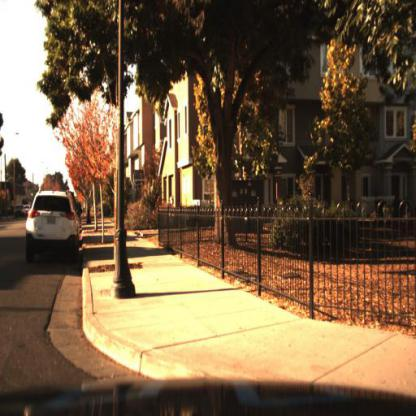car: (24, 188, 82, 266)
